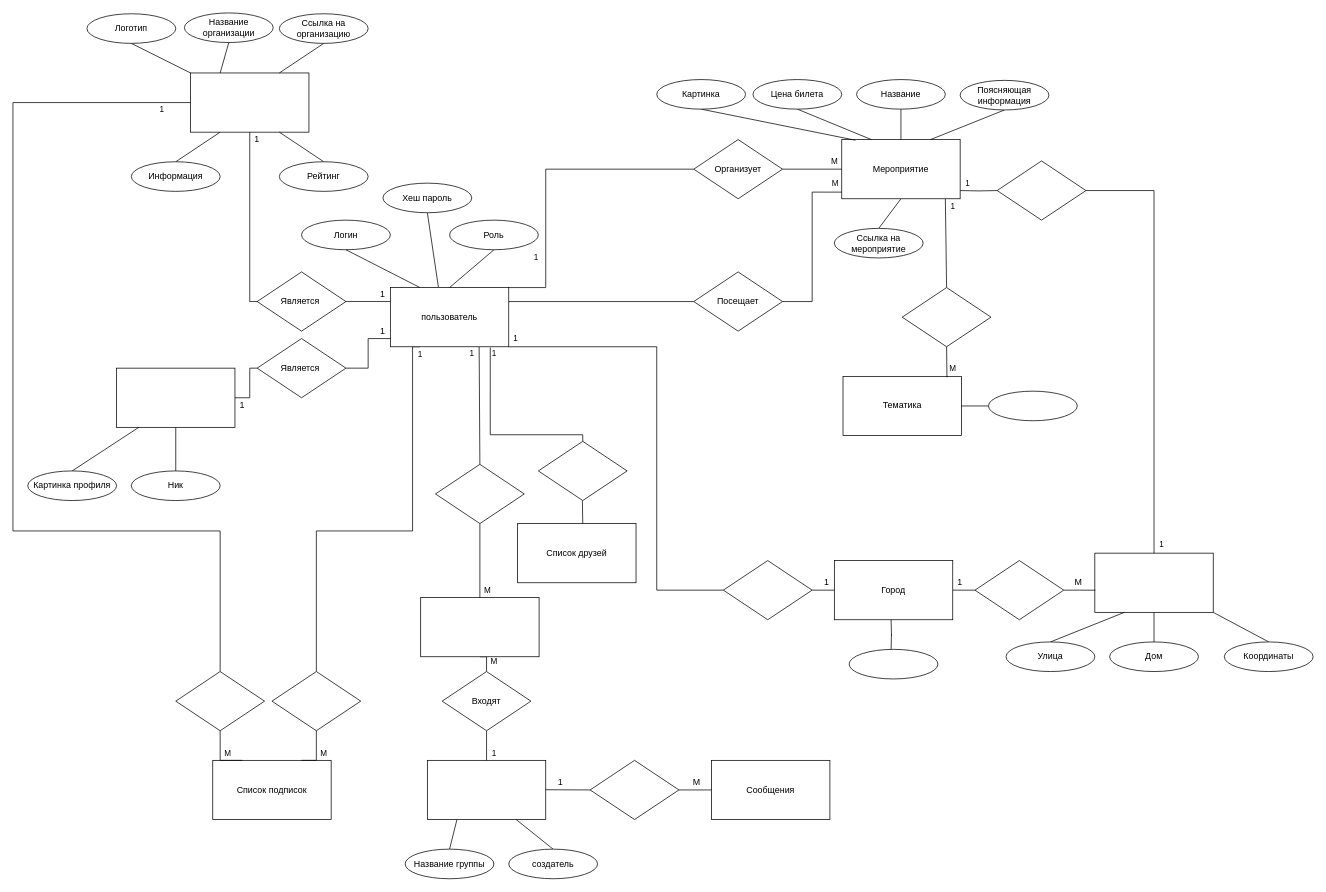
This 1326x892 diagram has some shape labels left out. Here are the shapes that lost their labels. From the top down, the box of each, then its label:
(190, 72, 309, 132): Организатор
(996, 160, 1086, 220): Проводится
(901, 287, 991, 347): Имеет
(116, 367, 235, 427): Посетитель
(988, 390, 1077, 421): Название тематики
(538, 441, 627, 501): Дружит
(435, 464, 524, 524): Добавляет
(723, 560, 812, 620): Находится
(974, 560, 1064, 620): Содержит
(1094, 552, 1213, 612): Адрес
(420, 597, 539, 657): Участники групп
(848, 649, 938, 679): Название города
(175, 671, 265, 731): Включается
(271, 671, 361, 731): Подписывается
(427, 760, 546, 820): Список групп
(589, 760, 679, 820): включает
